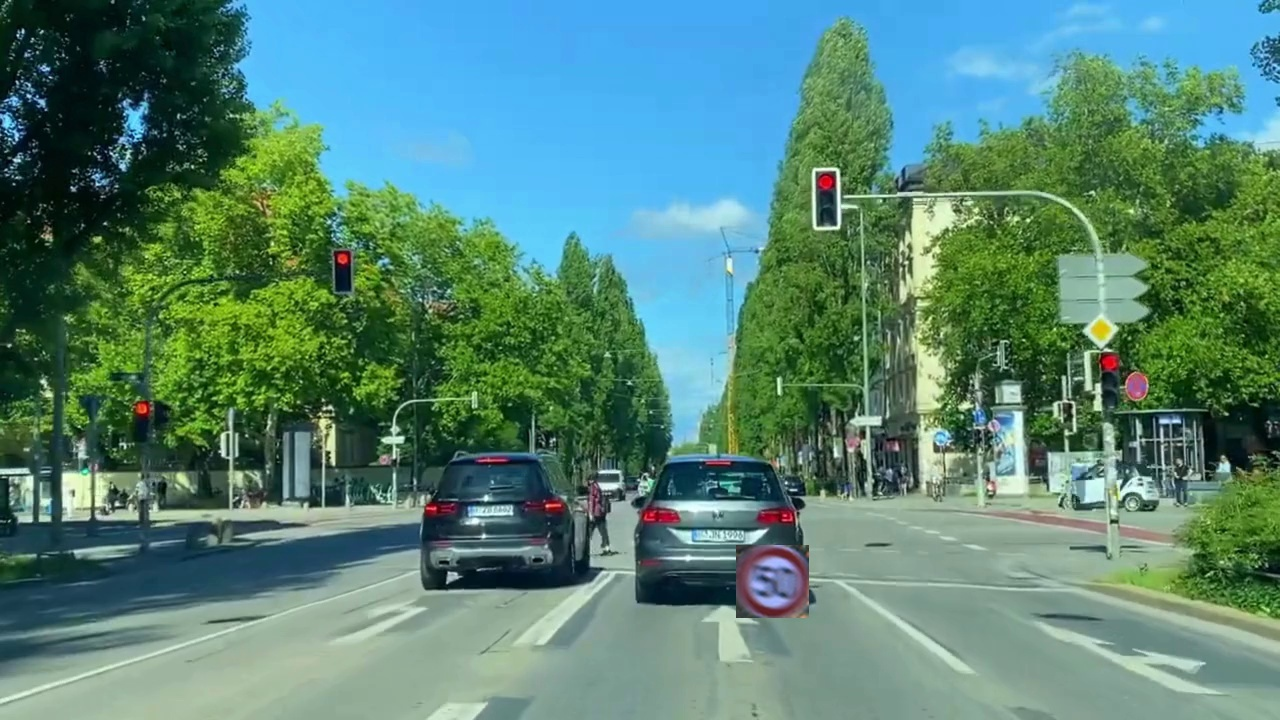Speed 50: (736, 545, 809, 618)
